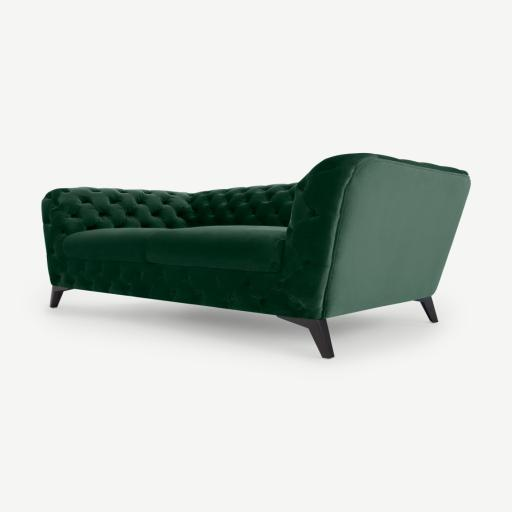back_cushion: (145, 184, 296, 227)
base: (62, 261, 320, 318)
left_arm: (326, 161, 468, 317)
legs: (278, 316, 333, 359), (50, 286, 72, 307), (421, 297, 435, 319)
right_arm: (42, 187, 177, 278)
seat_cushion: (65, 226, 286, 272)
two-seater: (0, 0, 511, 512)
